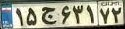character: (39, 5, 59, 26), (25, 5, 39, 26), (71, 2, 84, 24), (14, 5, 25, 29), (85, 3, 97, 24), (60, 4, 71, 26), (98, 6, 110, 26), (111, 5, 123, 25)
